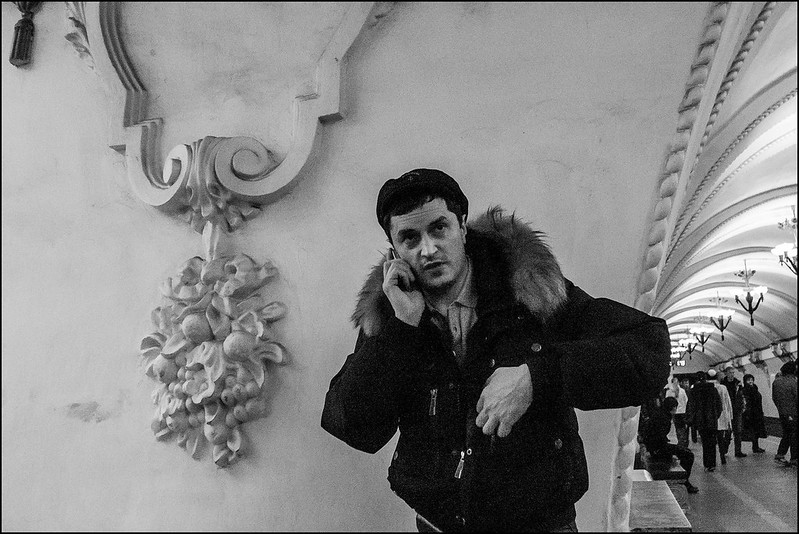phone: (375, 236, 420, 295)
talk: (371, 208, 454, 307)
